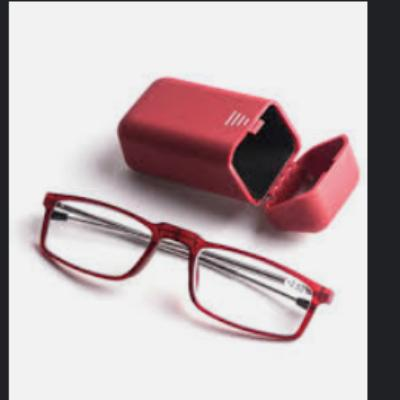glasses: (36, 185, 349, 352)
